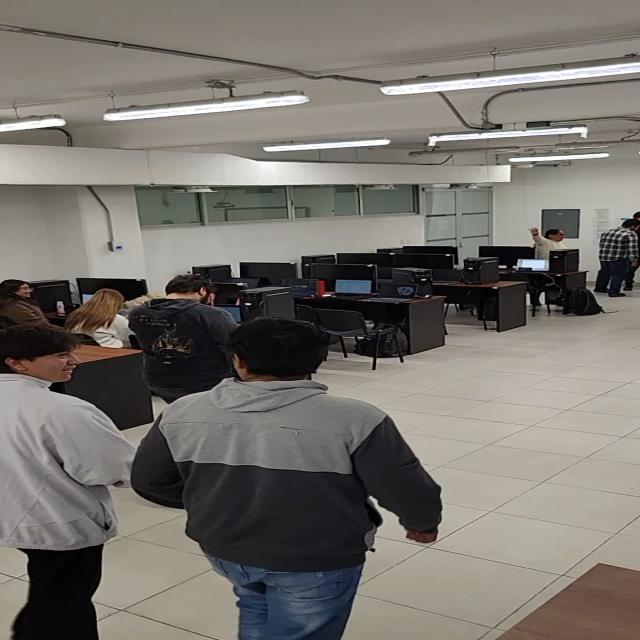Persona: (157, 319, 370, 637), (5, 326, 128, 636), (527, 224, 567, 262)
